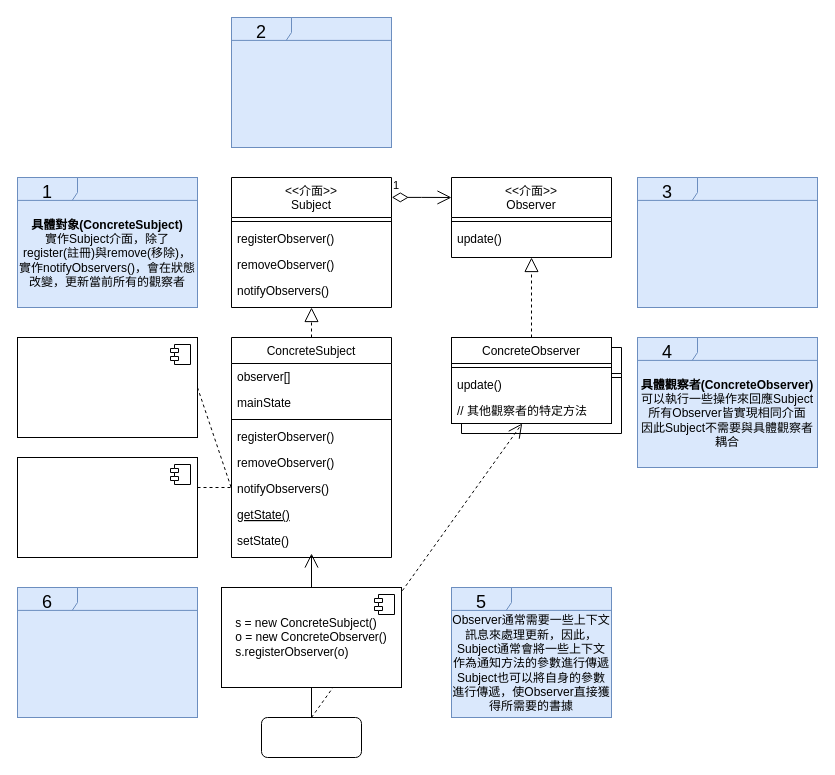
This 835x775 diagram has some shape labels left out. Here are the shapes that lost their labels. From the top down, the centre of each, then its label:
At (311,93): "當狀態改變時，Subject會 歷遍observers[]中的觀察者， 並調用每個觀察者的通知方法update()".
At (727,253): "觀察者(Observer) 宣告通用介面 大多情況下只會包含一個update 可以有多個參數，Subject能在更新時傳遞更新的資訊。".
At (107,387): "foreach (s in subscribers) { s.update(this) }".
At (107,507): "mainState = newState notifyObserver()".
At (107,663): "客戶端(Client) 分別創建Subject和Observer 然後將Observer註冊到Subject".
At (311,737): "Client".
